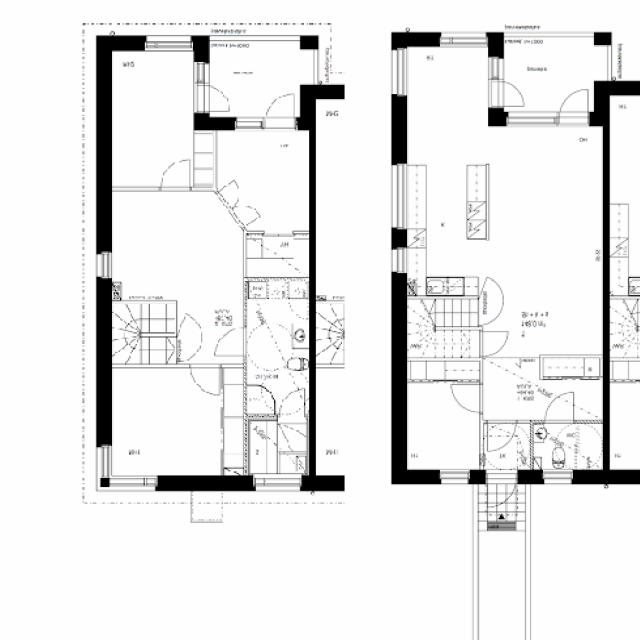door: (488, 470, 517, 515), (265, 89, 295, 130), (193, 84, 237, 111), (561, 85, 589, 126), (190, 363, 221, 398), (488, 81, 529, 106), (232, 196, 263, 228), (545, 391, 575, 424), (487, 421, 517, 454), (212, 327, 246, 356), (450, 384, 482, 414), (219, 160, 238, 209), (161, 160, 190, 191), (281, 390, 305, 421), (479, 331, 507, 356), (476, 301, 504, 325), (176, 340, 200, 361)
